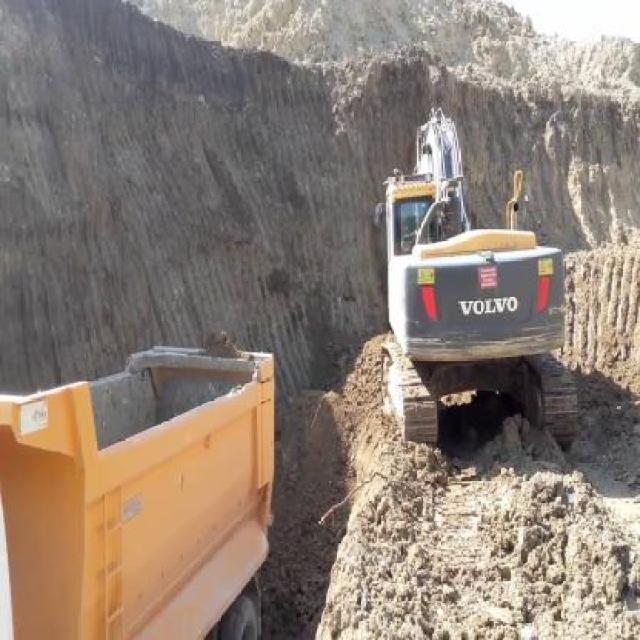dump_truck: (0, 338, 275, 639)
excavator: (373, 104, 579, 453)
